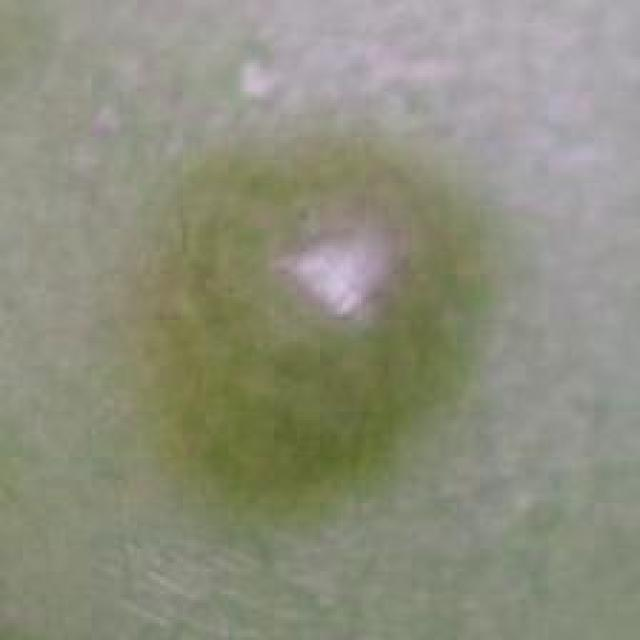monkeypox: (89, 101, 531, 616)
